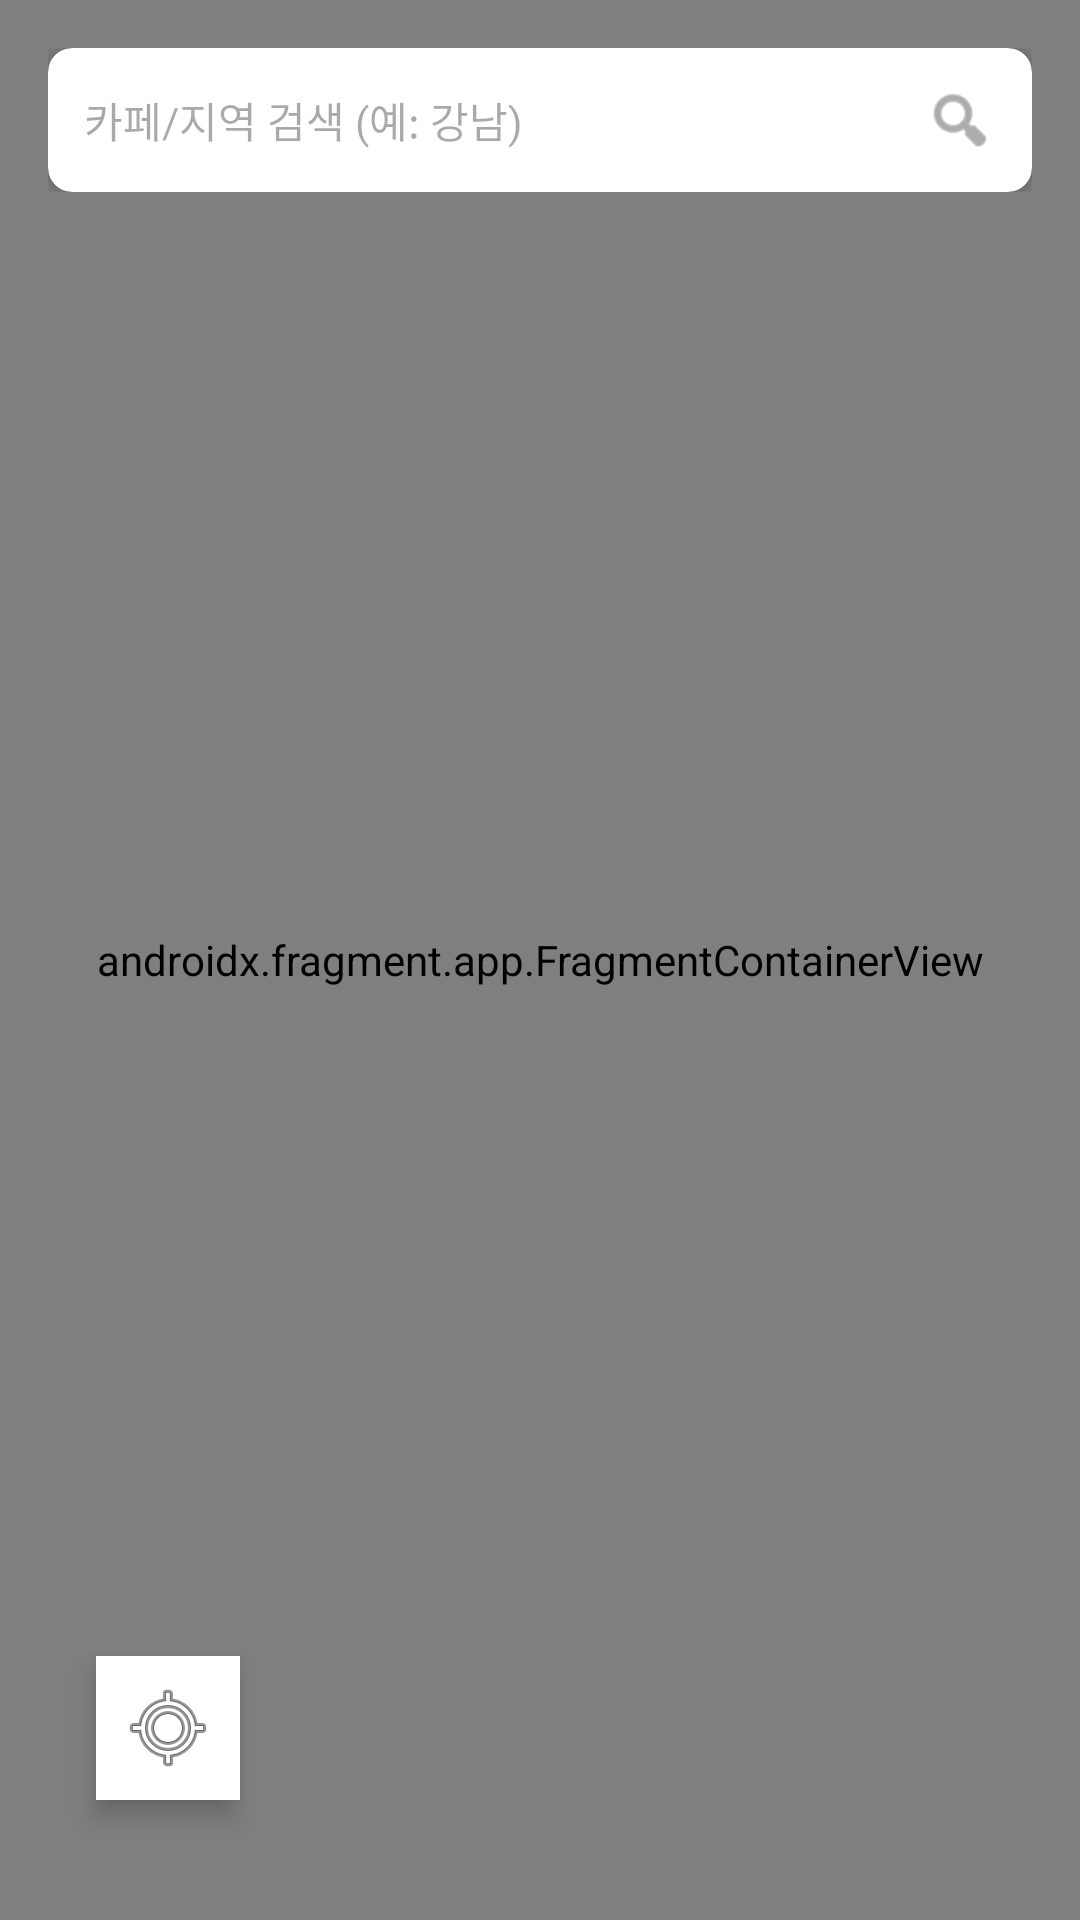

Icons on this 1080×1920 Android screen, each with its box as box=[x1, y1, x2, y2]:
search: box=[934, 94, 986, 147]
현재 위치: box=[96, 1656, 240, 1800]
